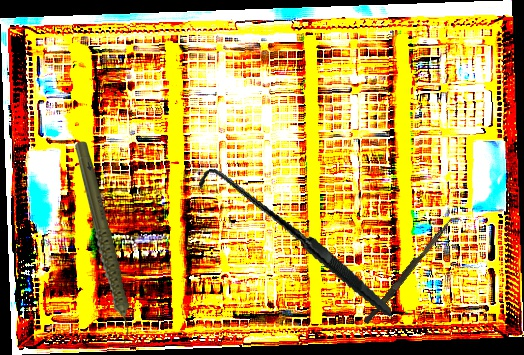Handpiece: (73, 140, 132, 347)
Hook Surgical: (196, 140, 393, 350)
Pusher: (363, 214, 454, 327)
